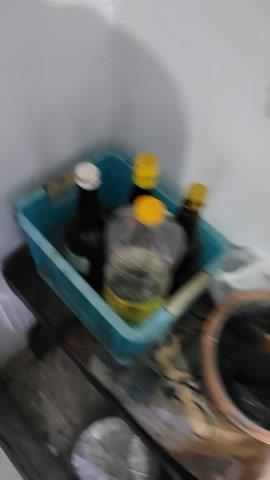botolkaca: (58, 151, 210, 294)
